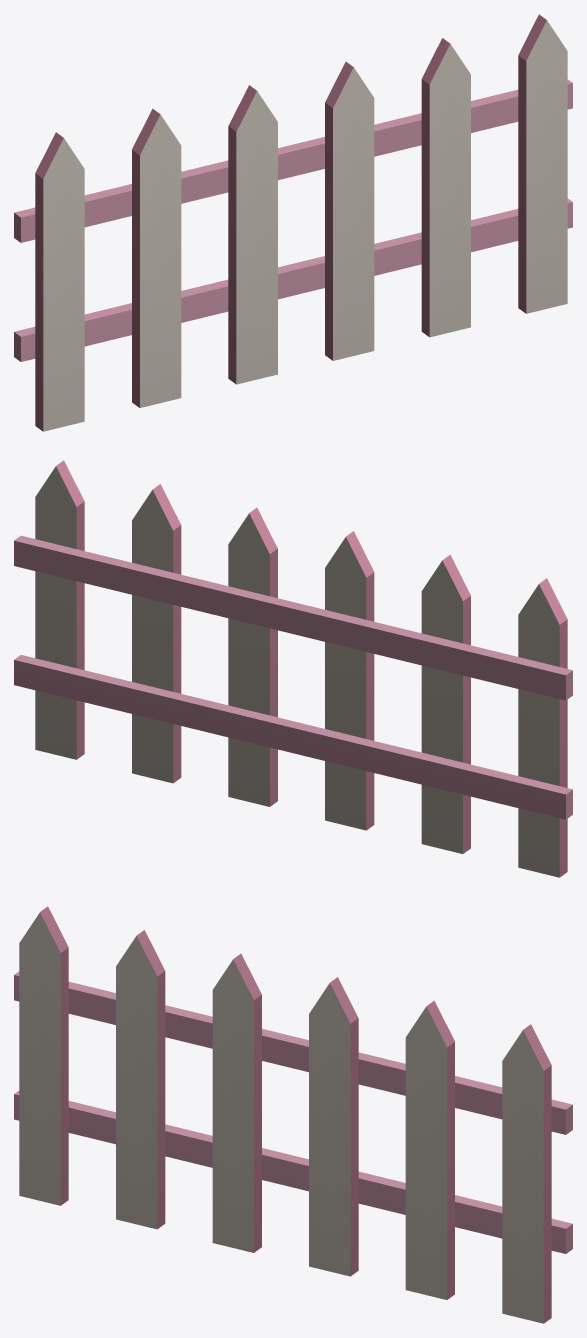
File: fence.glb
The picture shows the model from 3 angles, top to bottom: view 1: azimuth 30°, elevation 25°; view 2: azimuth 150°, elevation 25°; view 3: azimuth 330°, elevation 25°; orthographic projection.
Visible parts, largest first — view 1: root_mesh; view 2: root_mesh; view 3: root_mesh.
Boxes of the visible parts, x1,y1,x2,y2 form: root_mesh: (14, 14, 572, 431); root_mesh: (14, 460, 572, 877); root_mesh: (14, 906, 572, 1323).
Bounding box in the file's own units: 1.6 × 0.8 × 0.0775.
